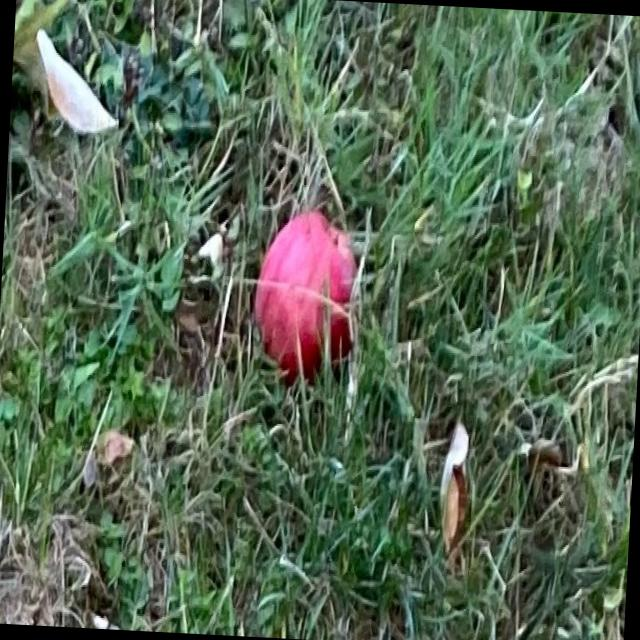Apples: (253, 209, 359, 381)
